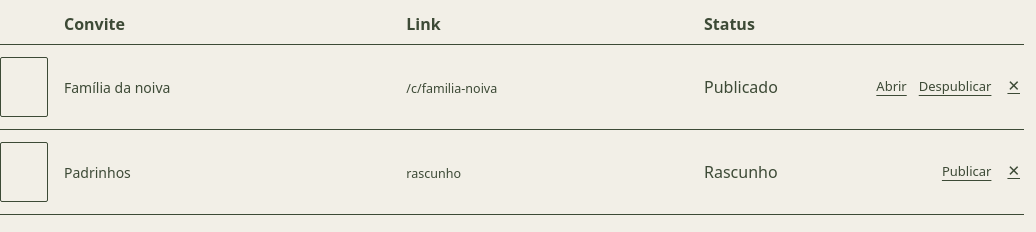
SC-005: publicar muda a linha inteira, sem sair da aba › erro da ação aparece na linha, e a linha não mente
Click the button "Publicar": (967, 172) [942, 162, 991, 182]
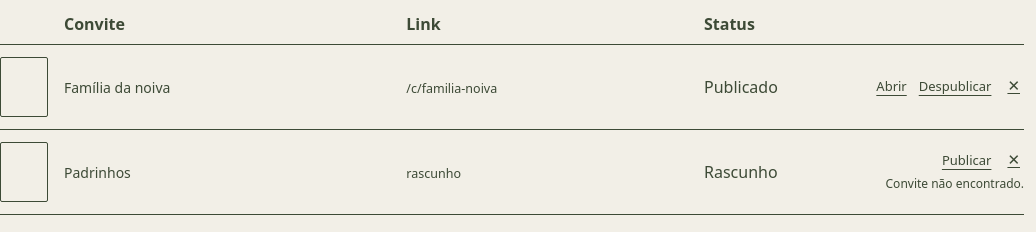
expect the row that starts with "Padrinhos" shows "rascunho": met, box [406, 165, 461, 182]
expect the message "Convite não encontrado." is shown: met, box [886, 175, 1024, 193]
